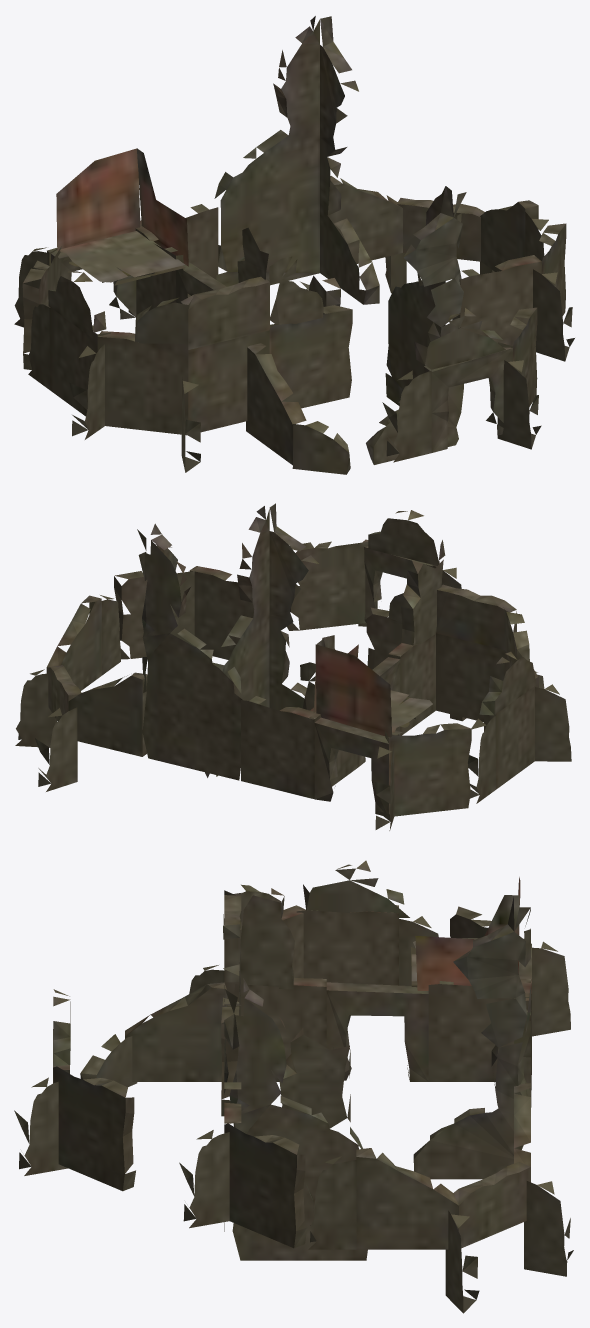
File: jungle_ruins_d-map.glb
The picture shows the model from 3 angles, top to bottom: view 1: azimuth 30°, elevation 25°; view 2: azimuth 150°, elevation 25°; view 3: azimuth 270°, elevation 25°; orthographic projection. The views are drawn at different scales.
Parts seen in each view (by area): view 1: jungle_ruins_d_HLOD; view 2: jungle_ruins_d_HLOD; view 3: jungle_ruins_d_HLOD.
Boxes of the visible parts, box(x1,y1,x2,y2) form: jungle_ruins_d_HLOD: box(14, 16, 574, 474); jungle_ruins_d_HLOD: box(15, 503, 571, 830); jungle_ruins_d_HLOD: box(14, 860, 573, 1313).
Bounding box in the file's own units: 19.72 × 11.64 × 16.49.
Materials: 1 (1 with a texture image).
